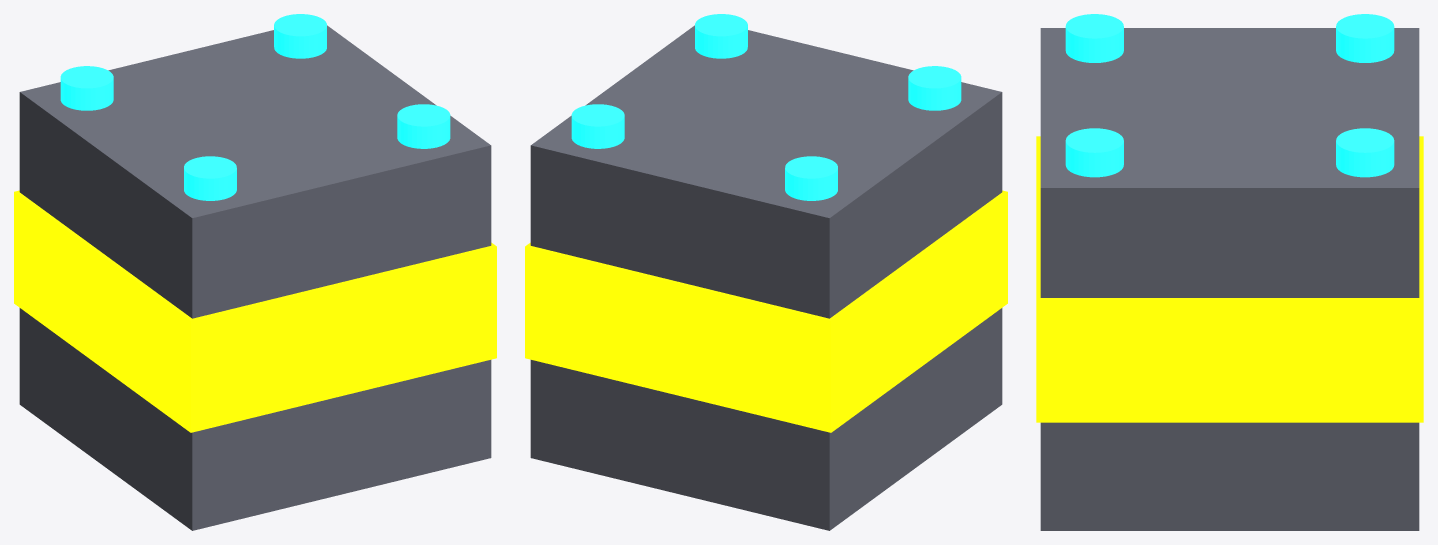
Rendered from falling-block.glb.
3 renders of one model, left to right at view 1: azimuth 30°, elevation 25°; view 2: azimuth 150°, elevation 25°; view 3: azimuth 270°, elevation 25°, orthographic. The views are drawn at different scales.
Parts seen in each view (by area): view 1: Cube, Cube.001, Cylinder.001, Cylinder.002, Cylinder, Cylinder.003; view 2: Cube, Cube.001, Cylinder, Cylinder.003, Cylinder.001, Cylinder.002; view 3: Cube, Cube.001, Cylinder.002, Cylinder.003, Cylinder, Cylinder.001.
Part boxes in pixels (<box>): Cube: <box>19,25,491,530</box>; Cube.001: <box>14,190,496,432</box>; Cylinder.001: <box>60,66,113,110</box>; Cylinder.002: <box>397,104,450,148</box>; Cylinder: <box>184,156,236,200</box>; Cylinder.003: <box>274,14,326,58</box>; Cube: <box>530,25,1002,530</box>; Cube.001: <box>525,190,1007,432</box>; Cylinder: <box>908,66,961,110</box>; Cylinder.003: <box>571,104,624,148</box>; Cylinder.001: <box>785,156,837,200</box>; Cylinder.002: <box>695,14,747,58</box>; Cube: <box>1040,28,1419,530</box>; Cube.001: <box>1036,136,1423,422</box>; Cylinder.002: <box>1065,128,1123,177</box>; Cylinder.003: <box>1336,128,1394,177</box>; Cylinder: <box>1065,14,1123,62</box>; Cylinder.001: <box>1336,14,1394,62</box>.
Bounding box in the file's own units: 1.86 × 1.95 × 1.86.
